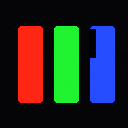4 line_v: (89, 29, 95, 57)
